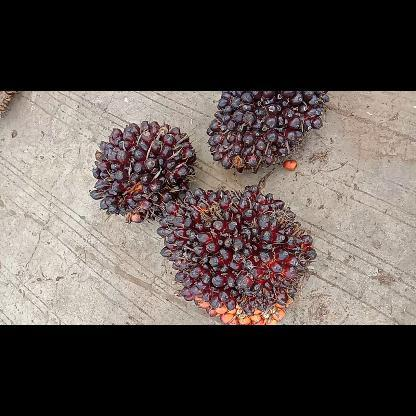TBS mentah: (155, 184, 317, 324), (86, 119, 200, 224), (205, 91, 333, 174)
